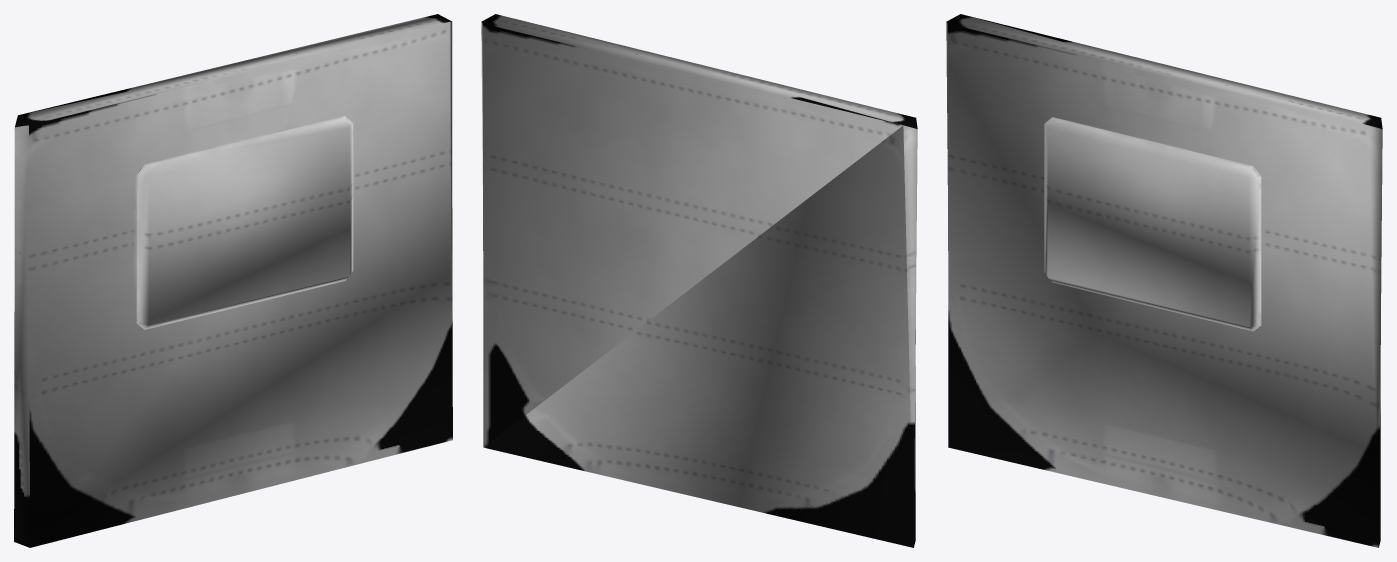
Rendered from UpperTorso_C1.fbx.
The picture shows the model from 3 angles, left to right: view 1: azimuth 30°, elevation 25°; view 2: azimuth 150°, elevation 25°; view 3: azimuth 330°, elevation 25°; orthographic projection.
Parts seen in each view (by area): view 1: Civ_Mameluco_UpperTorso_C1; view 2: Civ_Mameluco_UpperTorso_C1; view 3: Civ_Mameluco_UpperTorso_C1.
Boxes of the visible parts, x1=… form: Civ_Mameluco_UpperTorso_C1: x1=14, y1=14, x2=452, y2=547; Civ_Mameluco_UpperTorso_C1: x1=481, y1=14, x2=917, y2=547; Civ_Mameluco_UpperTorso_C1: x1=946, y1=14, x2=1382, y2=547.
Bounding box in the file's own units: 1.17 × 1.09 × 0.1032.
